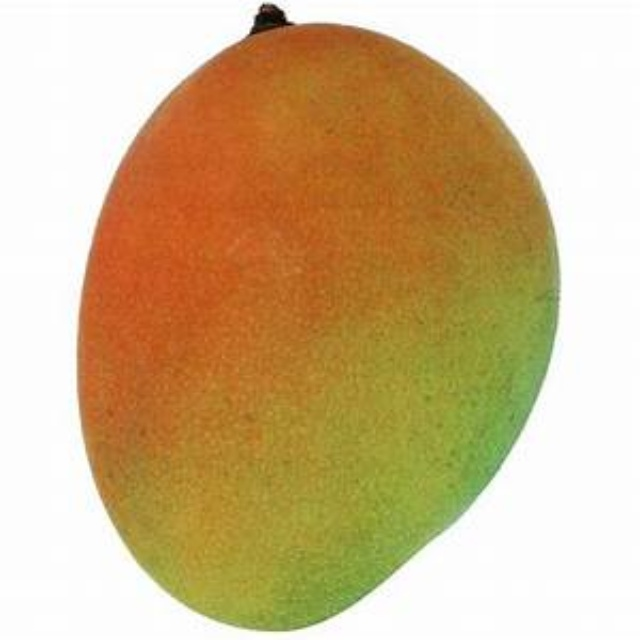mango: (80, 17, 563, 635)
